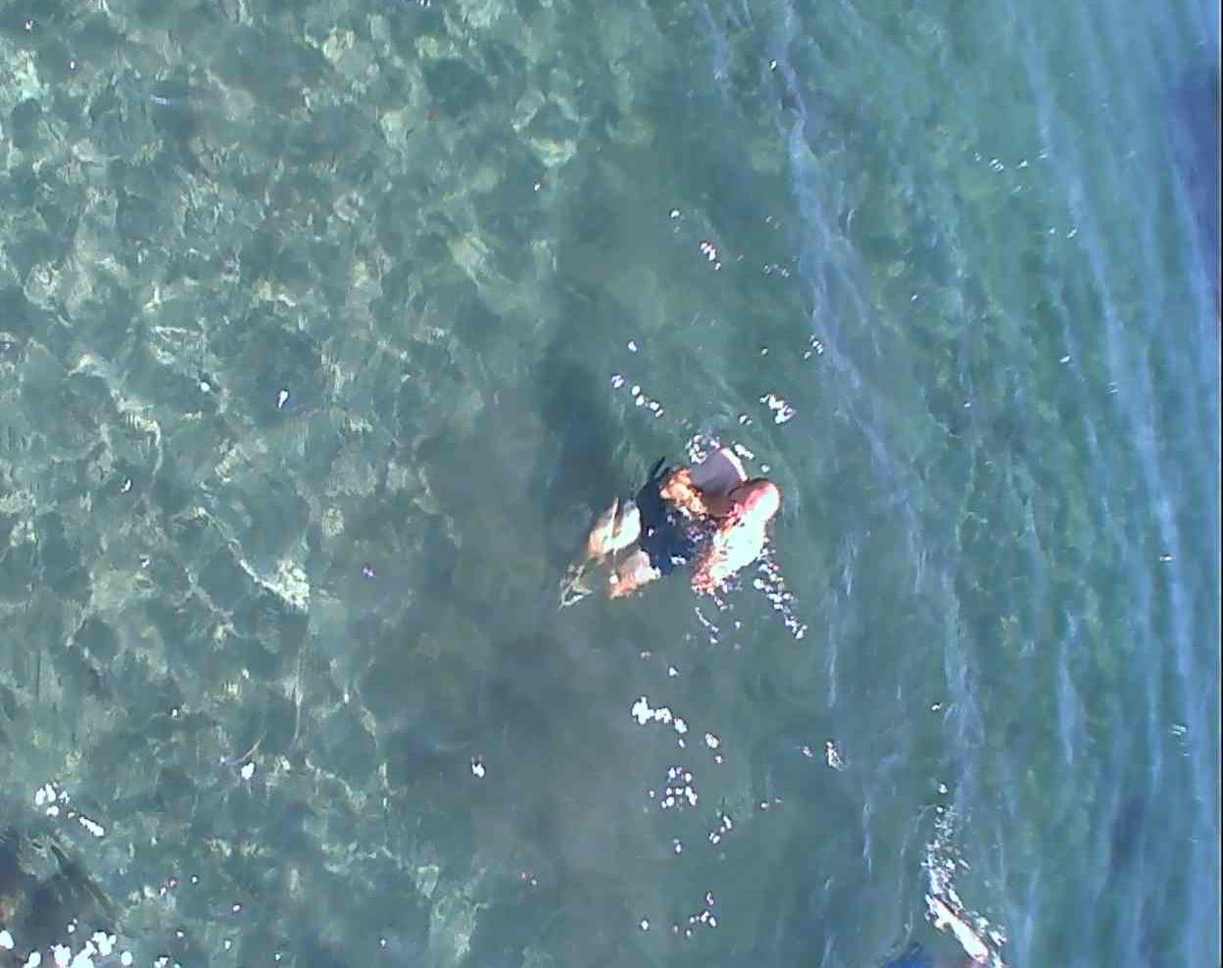human: (594, 404, 771, 614)
